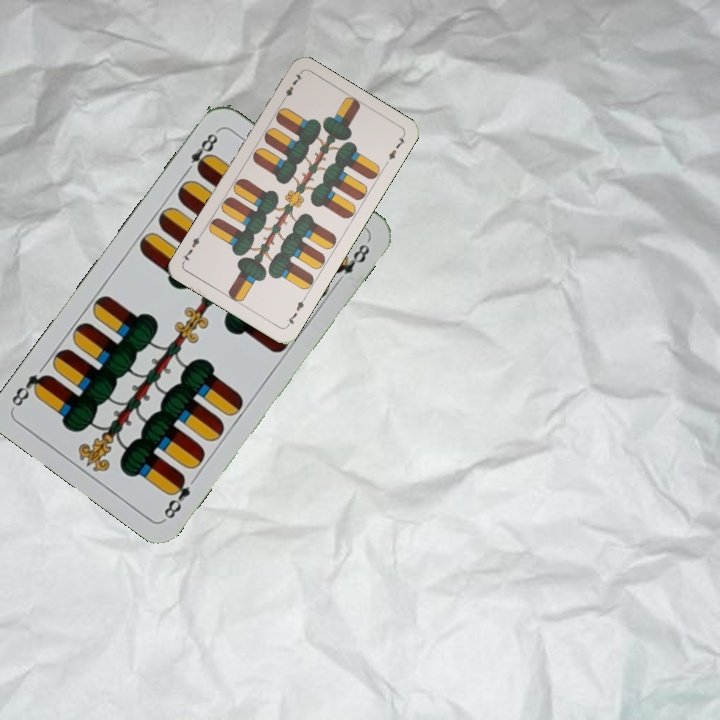E7: (278, 69, 306, 106), (283, 293, 309, 329)
E8: (180, 126, 221, 177), (159, 471, 193, 522)
